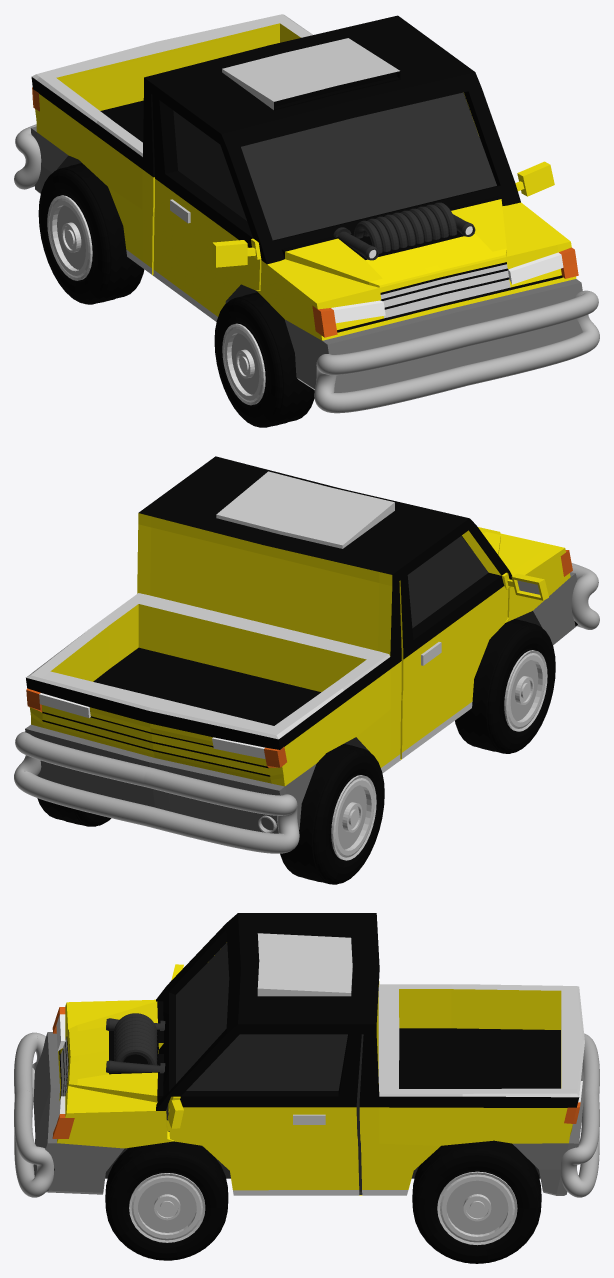
Rendered from CR-CAR-12A.fbx.
3 views of the same model, one above another, from view 1: azimuth 30°, elevation 25°; view 2: azimuth 150°, elevation 25°; view 3: azimuth 270°, elevation 25° (orthographic). The views are drawn at different scales.
Visible parts, largest first — view 1: BODY, NurbsPath.001, WHEEL.004, WHEEL.001; view 2: BODY, NurbsPath.001, WHEEL.004, WHEEL.001, WHEEL.002; view 3: BODY, WHEEL.002, WHEEL.003, NurbsPath.001.
Boxes of the visible parts, x1,y1,x2,y2 form: BODY: [30, 14, 582, 392]; NurbsPath.001: [14, 124, 599, 413]; WHEEL.004: [38, 163, 144, 304]; WHEEL.001: [214, 292, 314, 427]; BODY: [25, 456, 578, 833]; NurbsPath.001: [14, 563, 599, 853]; WHEEL.004: [280, 743, 384, 884]; WHEEL.001: [455, 619, 555, 753]; WHEEL.002: [37, 798, 111, 826]; BODY: [33, 913, 584, 1195]; WHEEL.002: [412, 1140, 541, 1263]; WHEEL.003: [105, 1141, 228, 1260]; NurbsPath.001: [14, 1032, 599, 1197].
Size of the model in its own units: 131 by 100 by 218.
